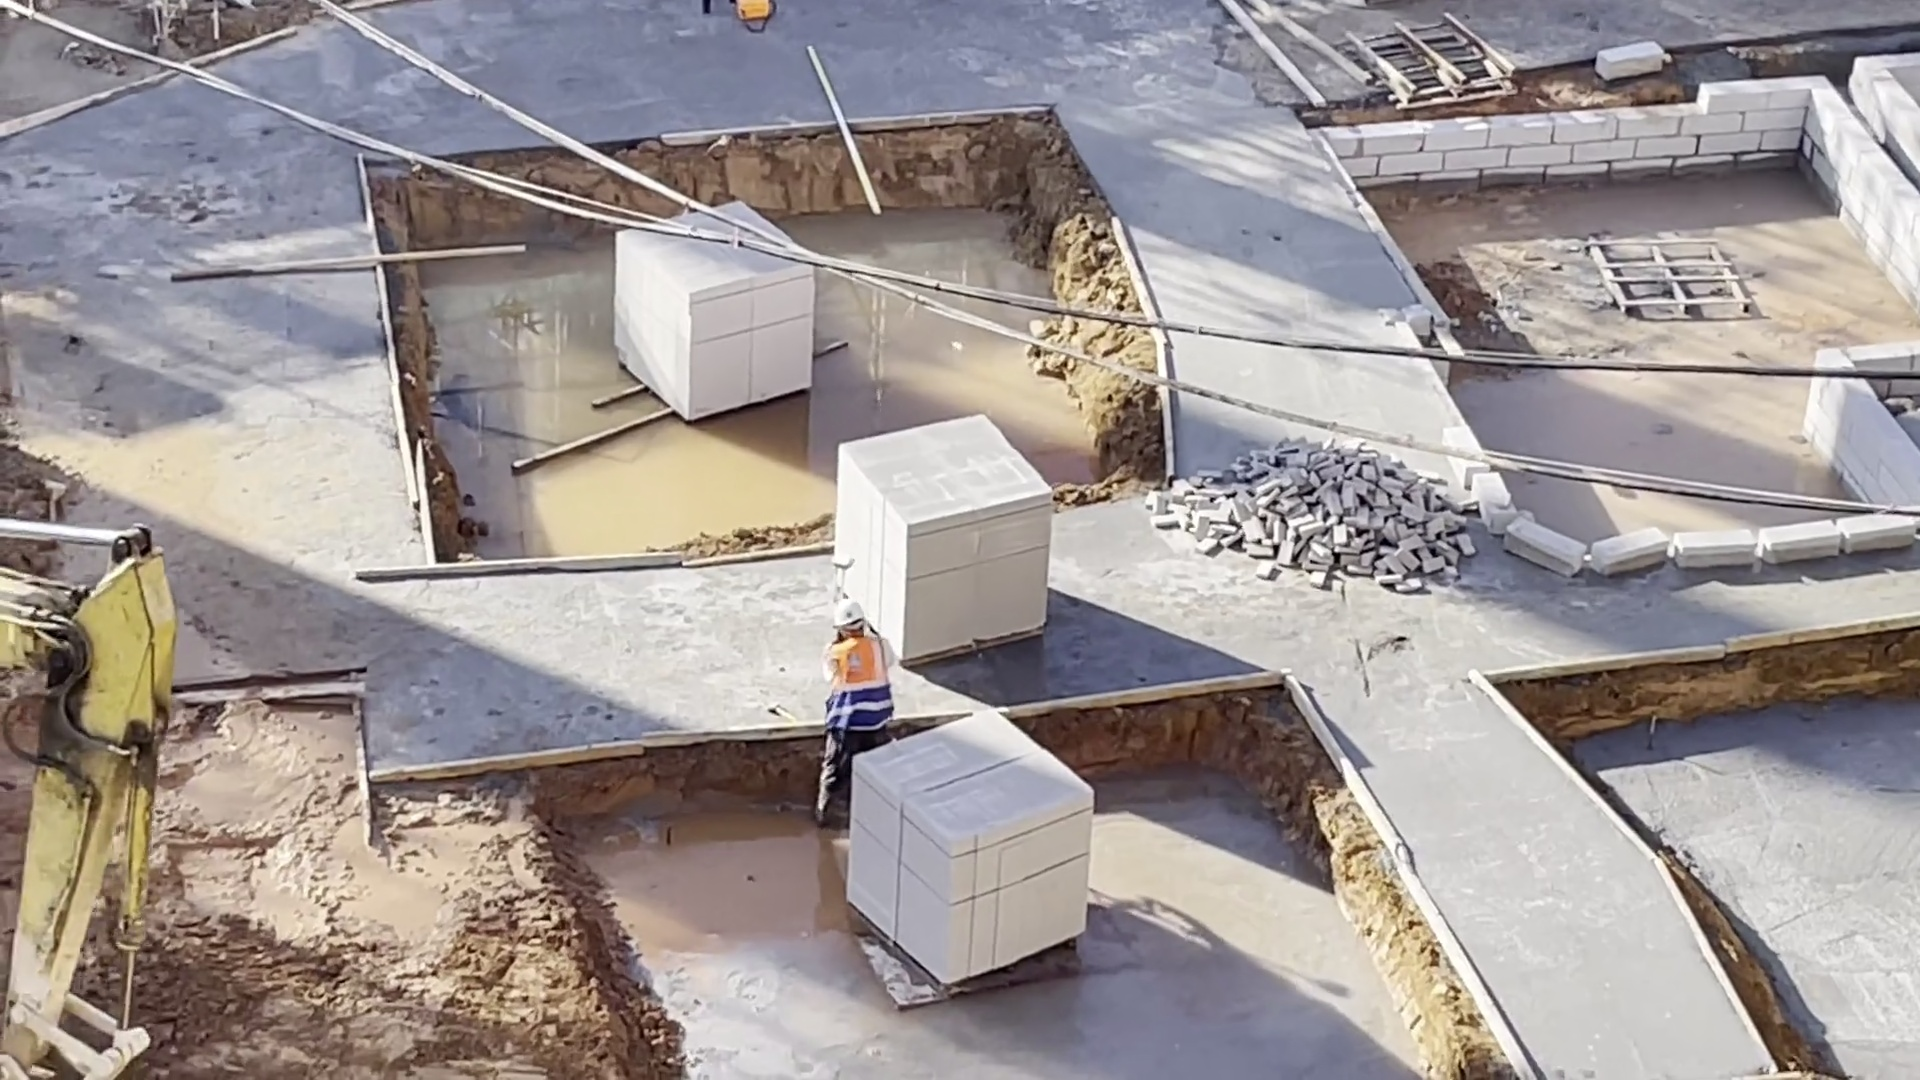brick: (845, 713, 1099, 1003), (1144, 426, 1483, 595), (828, 412, 1058, 656), (607, 200, 828, 428)
helmet: (830, 597, 863, 629)
person: (810, 592, 896, 841)
vest: (831, 645, 888, 754)
